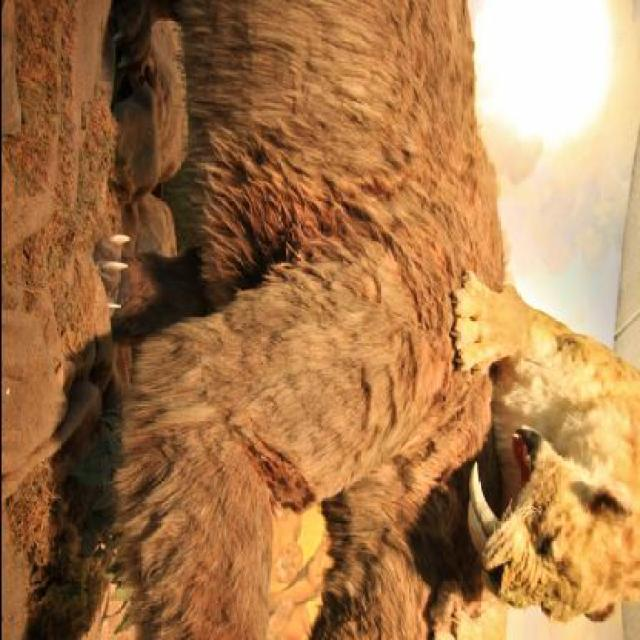Lion: (432, 211, 638, 638)
